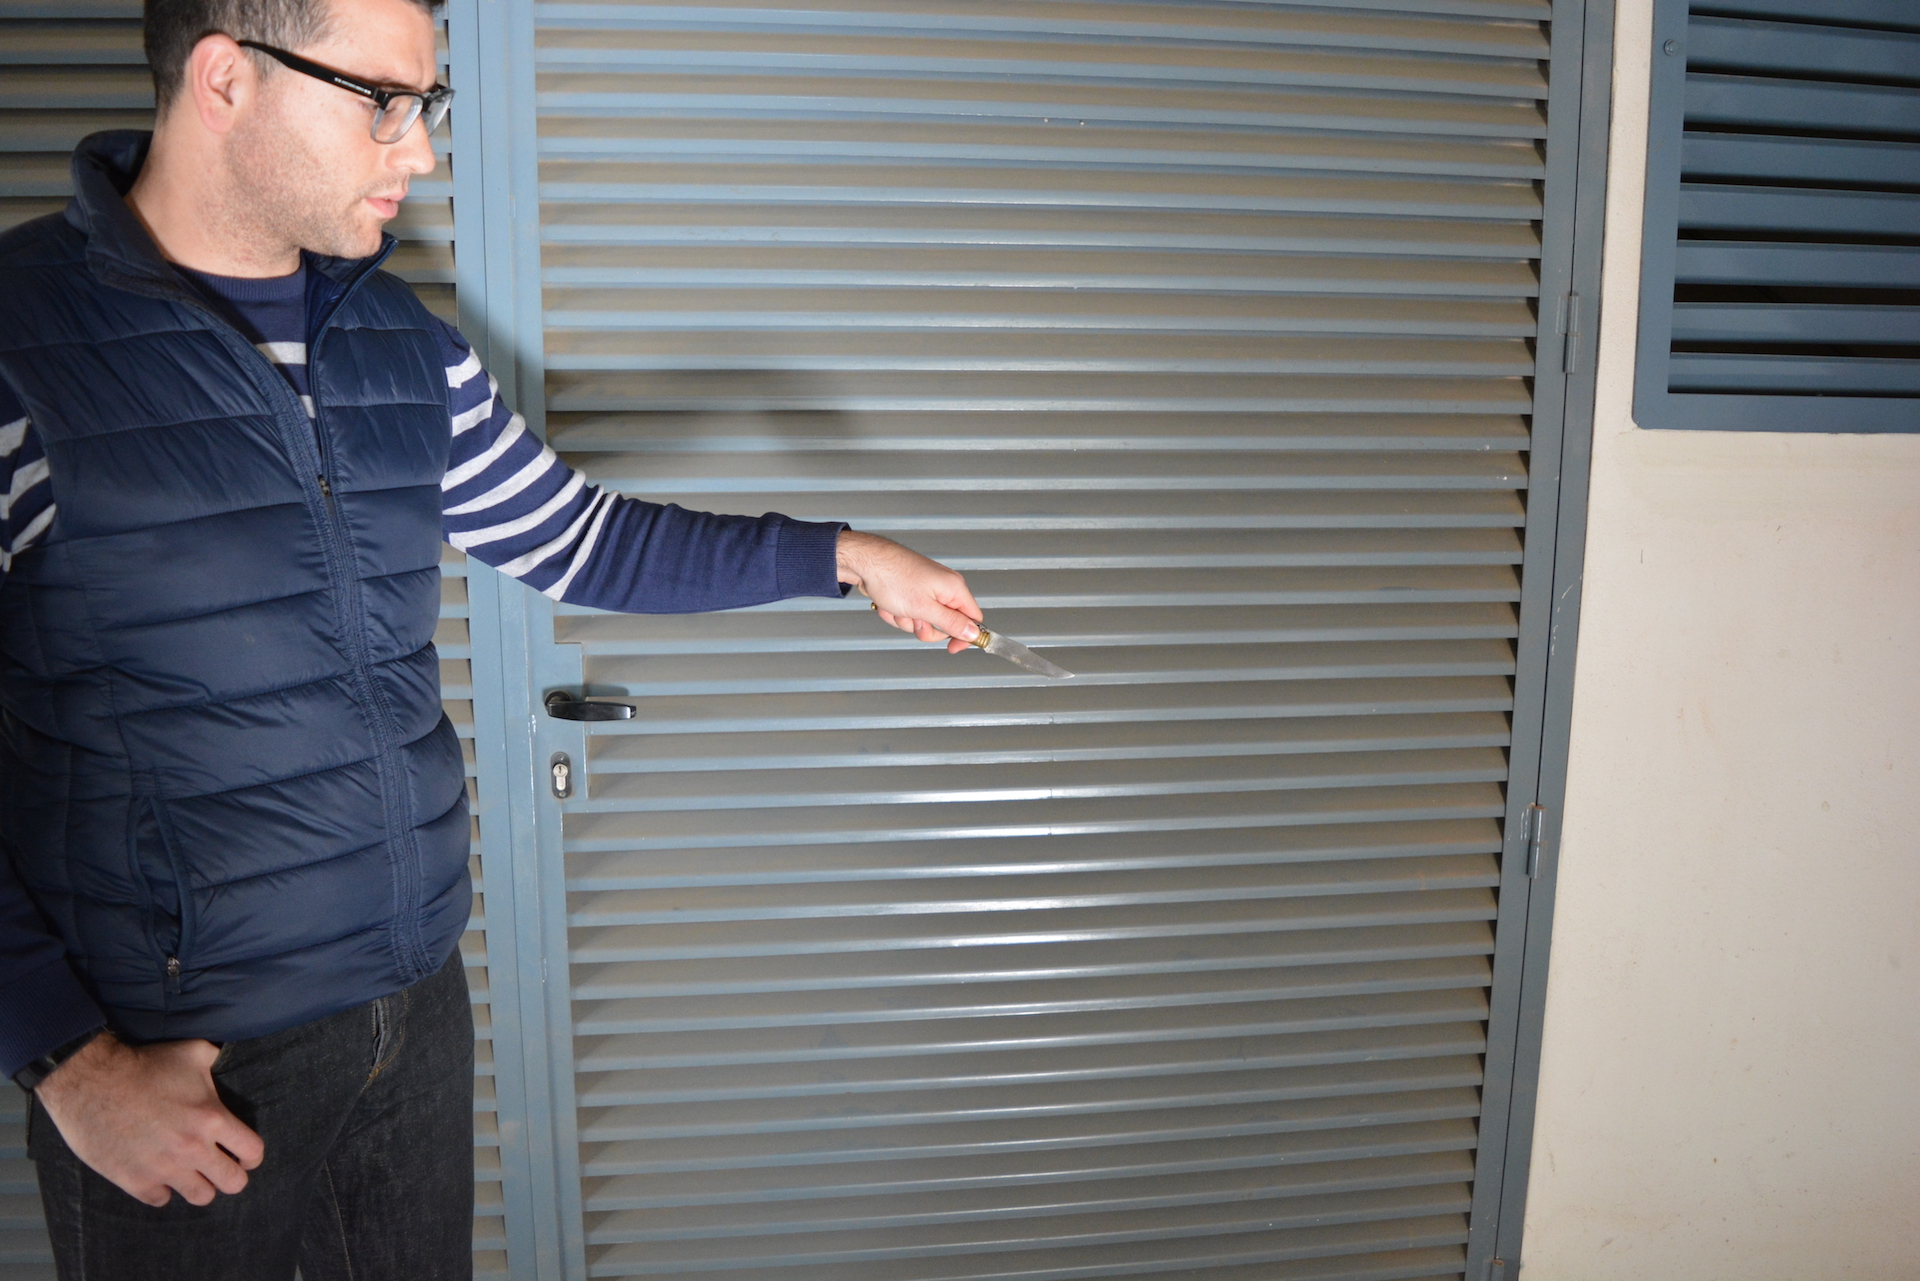knife: (866, 596, 1087, 683)
